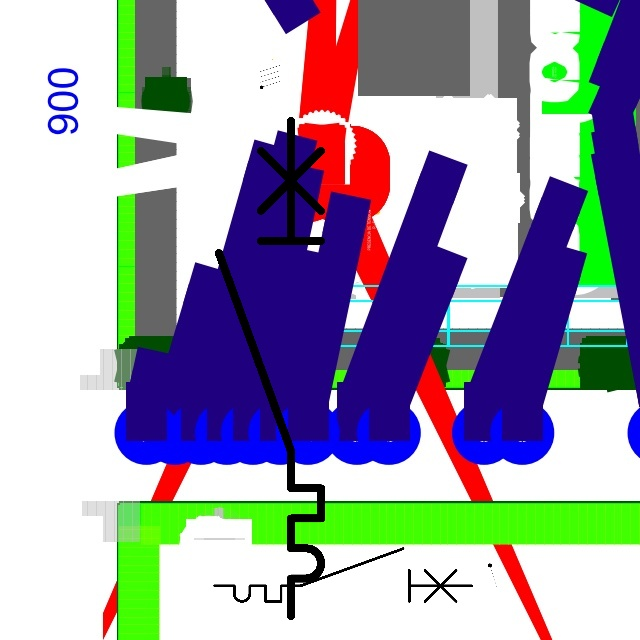interruptor_termomagnetico: (206, 107, 334, 628), (208, 542, 478, 608)
